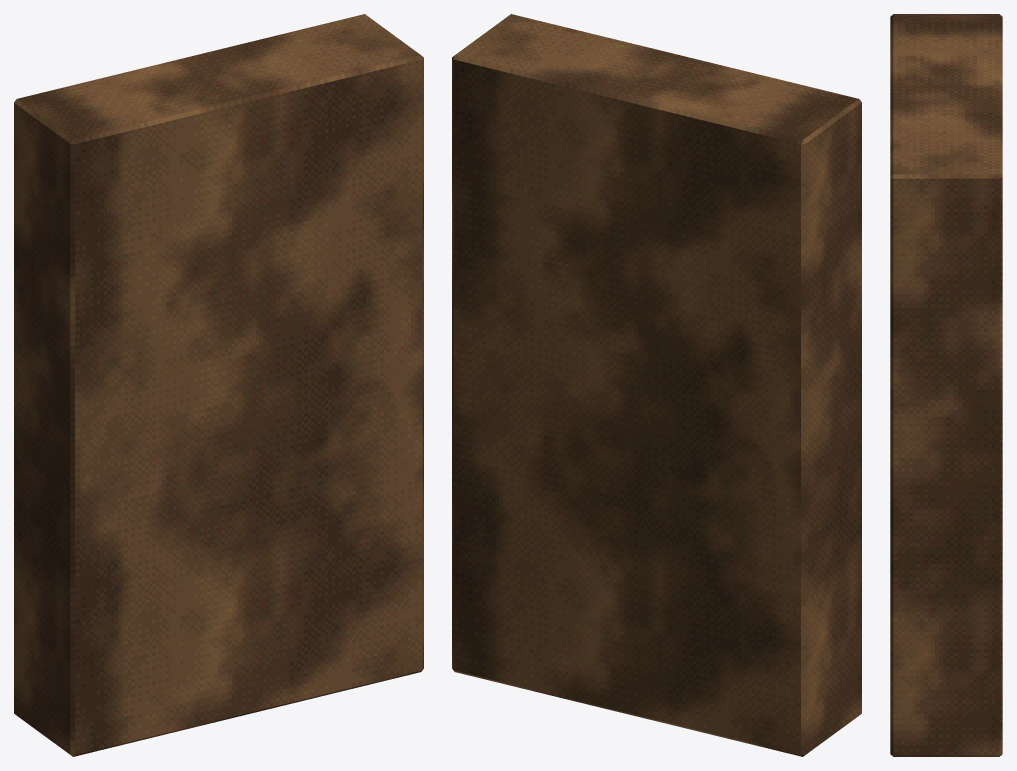
The model's file is int_bookshelf.glb.
3 views of the same model, side by side, from view 1: azimuth 30°, elevation 25°; view 2: azimuth 150°, elevation 25°; view 3: azimuth 270°, elevation 25° (orthographic). The views are drawn at different scales.
Visible parts, largest first — view 1: int_bookshelf_mesh; view 2: int_bookshelf_mesh; view 3: int_bookshelf_mesh.
Part boxes in pixels (x1,y1,x2,y2): int_bookshelf_mesh: (14, 14, 423, 756); int_bookshelf_mesh: (452, 14, 861, 756); int_bookshelf_mesh: (890, 14, 1002, 756).
Size of what is drawn, in the model's own units: 1.2 by 2 by 0.35.
2 materials, 2 textured.
